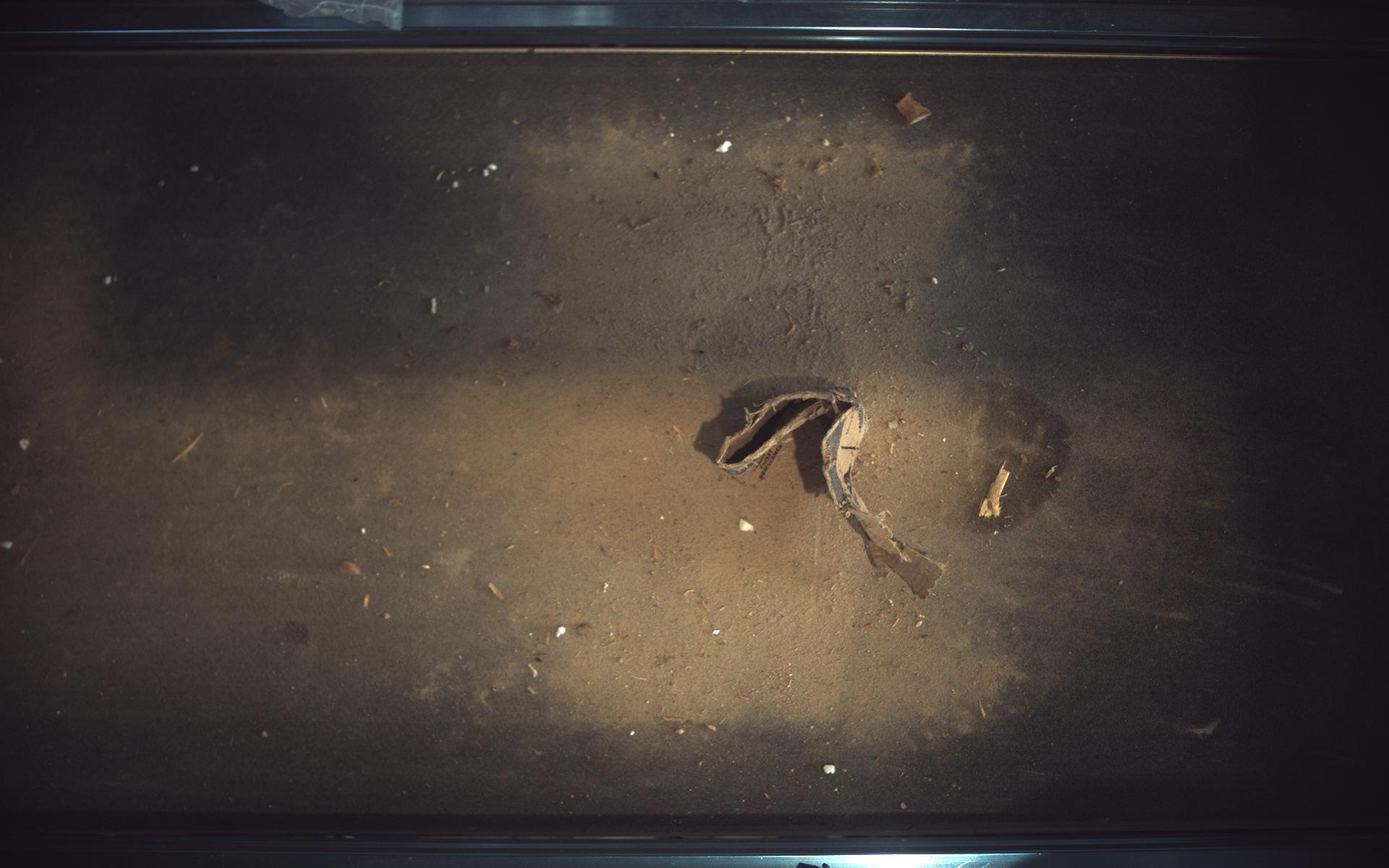general_w: (718, 387, 947, 599)
